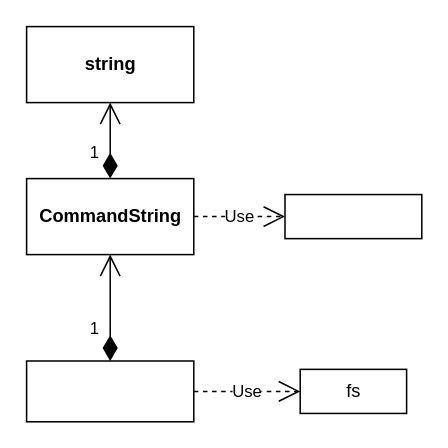
Some shapes in this 448 by 448 pixel diagram are drawn without their labels. Each missing label, with the centre of its shape:
CommandFile: the point at 109,390
LoggingService: the point at 352,216
